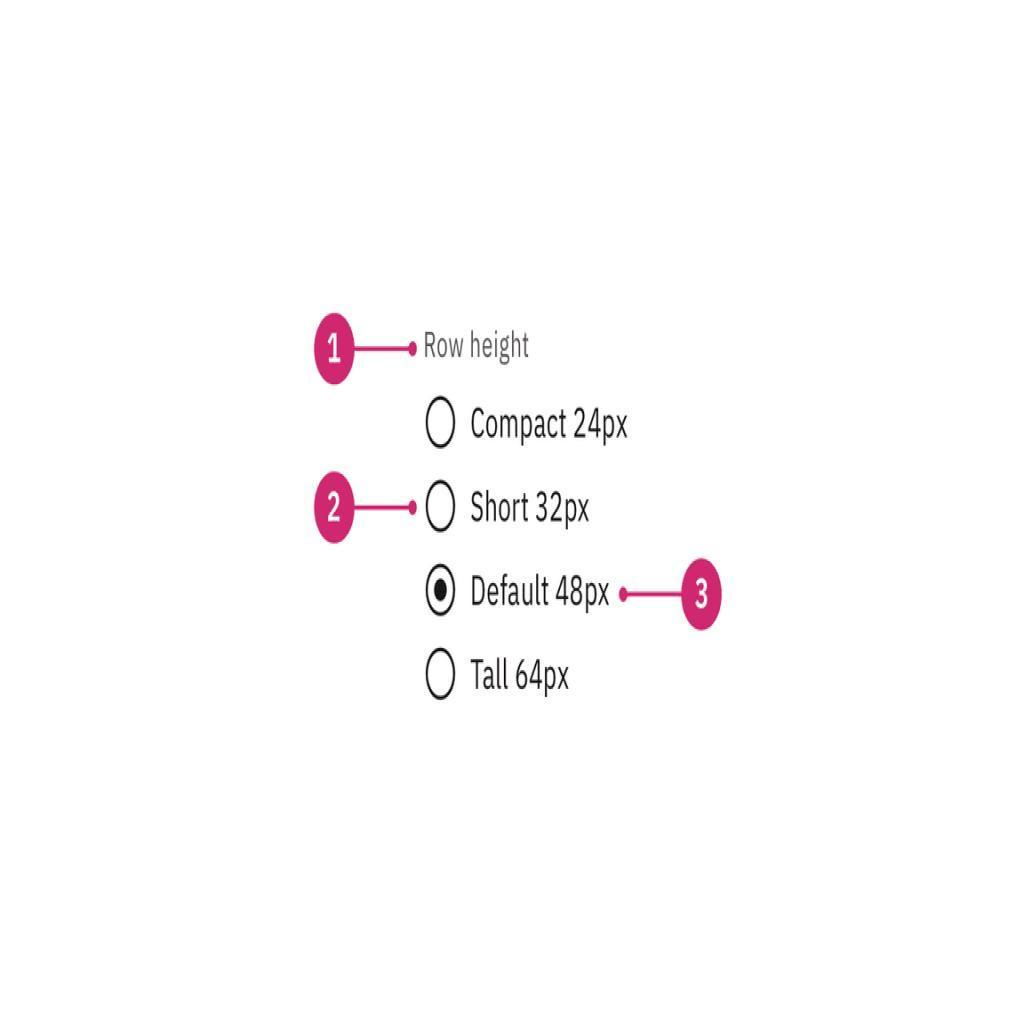radio: (421, 634, 460, 713), (423, 384, 460, 464), (425, 555, 459, 624), (425, 476, 459, 542)
